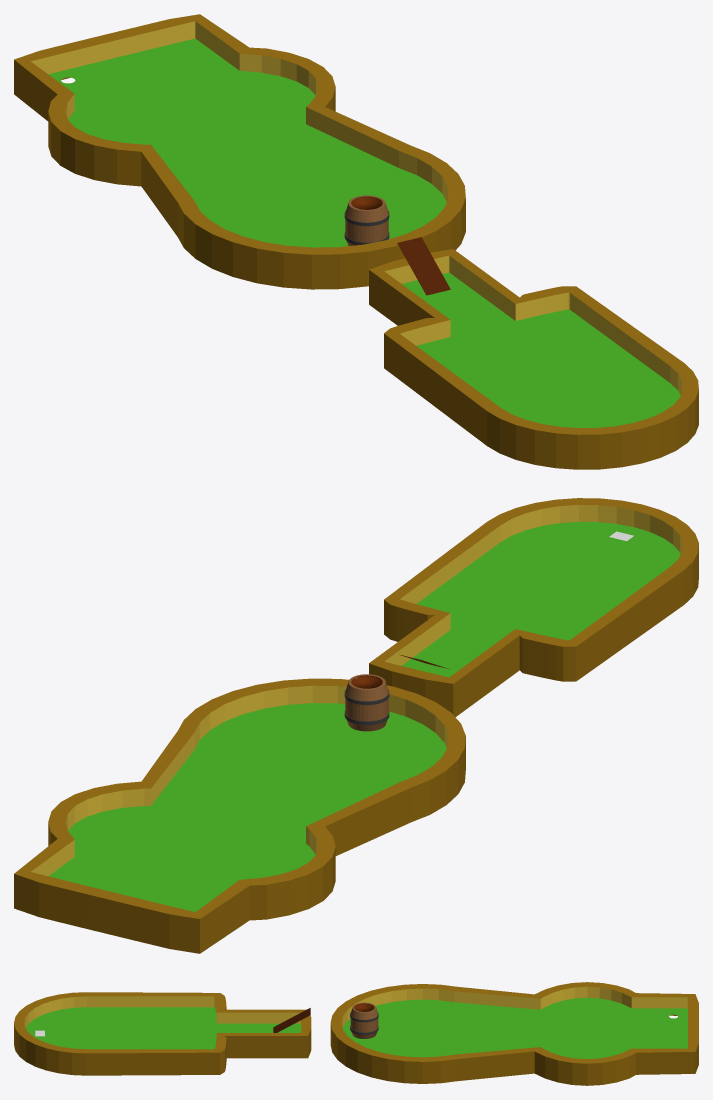
The model's file is playgroundLvl3.glb.
3 renders of one model, top to bottom at view 1: azimuth 30°, elevation 25°; view 2: azimuth 150°, elevation 25°; view 3: azimuth 270°, elevation 25°, orthographic. The views are drawn at different scales.
Visible parts, largest first — view 1: Cylinder, Plane; view 2: Cylinder, Plane; view 3: Cylinder, Plane.
Boxes of the visible parts, x1=… form: Cylinder: x1=14, y1=14, x2=465, y2=289; Plane: x1=369, y1=237, x2=698, y2=469; Cylinder: x1=14, y1=674, x2=465, y2=953; Plane: x1=369, y1=498, x2=698, y2=716; Cylinder: x1=330, y1=982, x2=698, y2=1085; Plane: x1=14, y1=992, x2=311, y2=1075.
Bounding box in the file's own units: 21.46 × 4.58 × 76.08.
